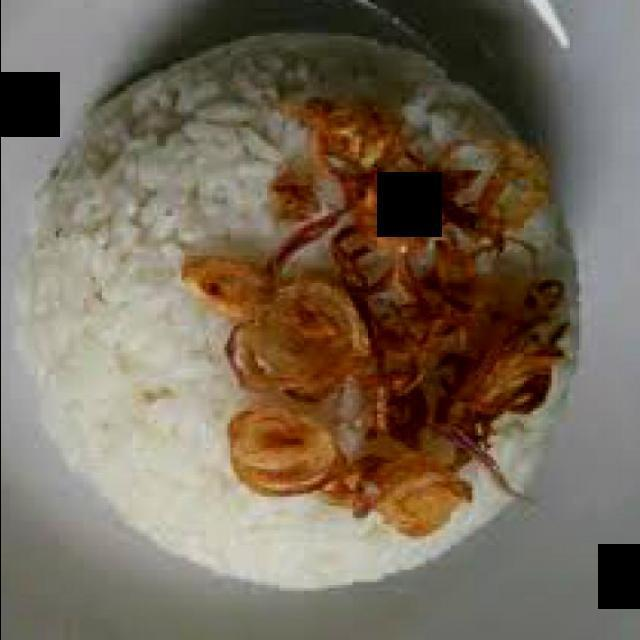Chicken -Chicken Inasal-: (26, 36, 513, 582)
